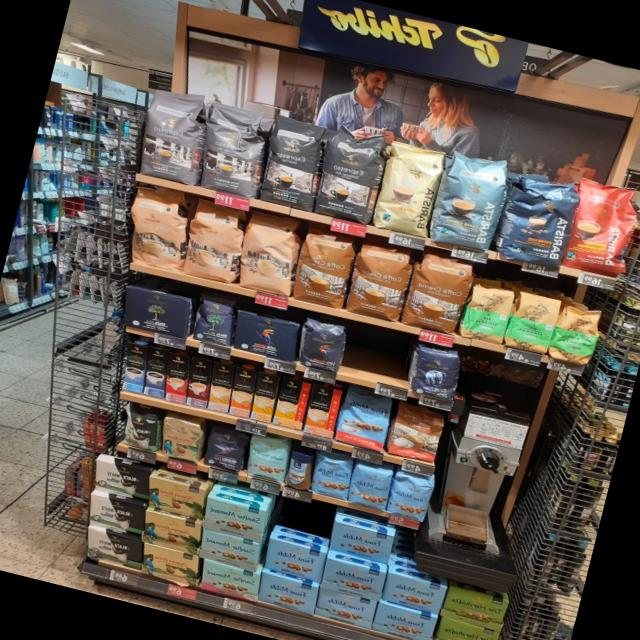AB Bohne: (403, 340, 466, 403)
Athiopien Bohne: (544, 298, 606, 368)
Athiopien Gemahlen: (501, 288, 563, 358), (456, 278, 517, 348)
BM Bohne: (191, 290, 238, 349)
BM Gemahlen: (123, 284, 190, 340)
BW Bohne: (121, 401, 164, 453)
BW Gemahlen: (93, 457, 151, 503), (88, 492, 145, 537), (85, 526, 143, 570)
Barista CB: (366, 138, 451, 242)
Barista CC: (423, 146, 514, 256)
Barista Espresso: (490, 169, 582, 274)
Barista Kolumbien: (558, 175, 640, 284)
C Fino Bohne: (201, 421, 248, 475)
CC Mild: (123, 180, 195, 276), (234, 207, 306, 300), (180, 195, 248, 288)
CC Vollmundig: (383, 399, 448, 465)
CC Vollmundig 36 Pads: (397, 246, 478, 338), (342, 233, 419, 324), (290, 220, 362, 312)
Colombia BB Bohne: (159, 409, 206, 465)
Colombia BB Gemahlen: (140, 509, 202, 555), (139, 542, 200, 587), (147, 475, 207, 520)
Empty Shelf: (358, 329, 412, 386), (270, 503, 335, 549)
Espresso Aromatisch: (134, 80, 214, 189)
Espresso Kraftig: (252, 112, 334, 215)
Espresso M Art: (196, 100, 275, 202)
FM 36 Pads: (331, 384, 397, 454)
FM Bohne: (384, 467, 436, 522), (344, 457, 394, 512), (308, 447, 356, 501)
FM Gemahlen: (380, 571, 448, 616), (327, 520, 396, 564), (320, 556, 388, 600), (263, 537, 327, 583), (312, 585, 378, 628), (371, 601, 438, 640)
FM Instant: (281, 444, 319, 492)
Herzhatfe Mundig: (439, 584, 509, 631), (433, 616, 501, 640)
LG Bohne: (294, 315, 350, 374)
LG Gemahlen: (232, 308, 301, 364)
SM Bohne: (244, 430, 292, 484)
SM Gemahlen: (201, 495, 268, 542), (198, 558, 262, 602), (199, 528, 261, 572)
Simo CCMild: (270, 376, 312, 430)
Simo CCMild bigpack: (249, 370, 280, 424)
Simo CCVollmundig: (302, 383, 344, 439)
Simo CCVollmundig bigpack: (227, 365, 257, 419)
Simo Decaff: (206, 360, 235, 414)
Simo Es Elegant: (162, 350, 191, 406)
Simo Es Kraft: (184, 355, 214, 410)
Simo Kaffee Kraft: (141, 345, 169, 399)
Simo Kaffee Mild: (121, 341, 148, 394)
